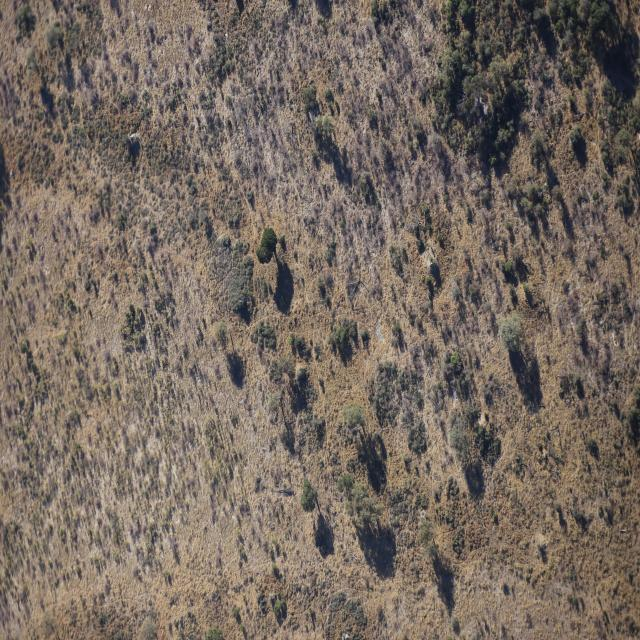elephant: (522, 258, 527, 267), (539, 191, 543, 199), (546, 127, 550, 134)
